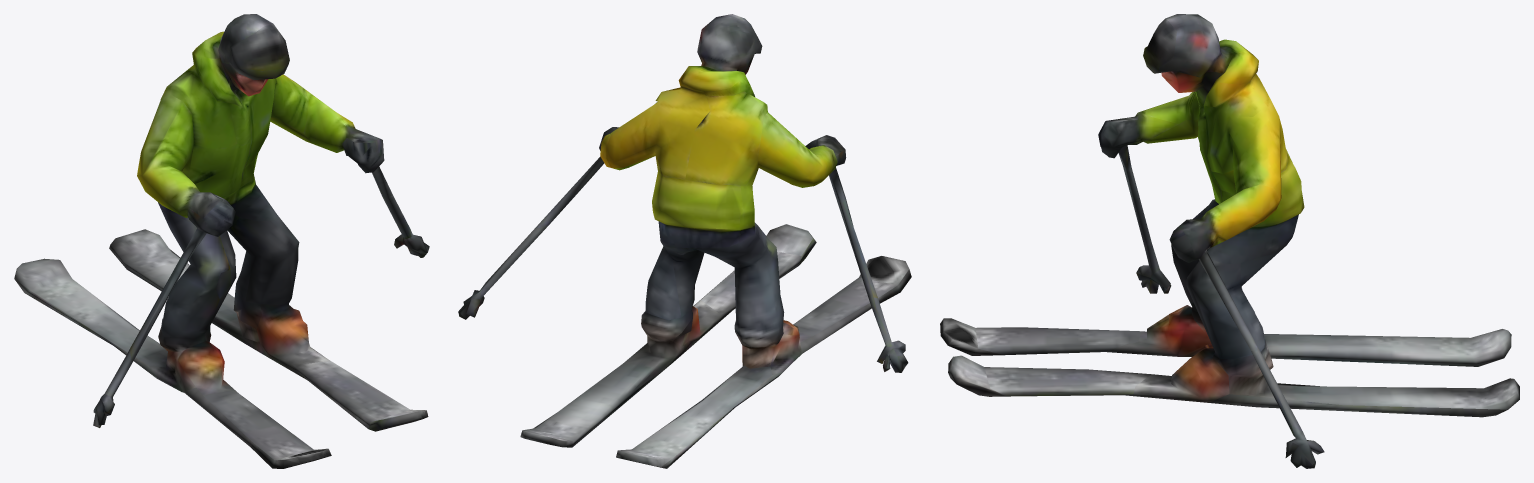
File: dio_skier_green.glb
3 views of the same model, side by side, from view 1: azimuth 30°, elevation 25°; view 2: azimuth 150°, elevation 25°; view 3: azimuth 270°, elevation 25° (orthographic). The views are drawn at different scales.
Parts seen in each view (by area): view 1: tripo_part_11; view 2: tripo_part_11; view 3: tripo_part_11.
Boxes of the visible parts, x1,y1,x2,y2 form: tripo_part_11: [14, 14, 429, 468]; tripo_part_11: [458, 14, 911, 468]; tripo_part_11: [940, 14, 1519, 468].
Bounding box in the file's own units: 0.2029 × 0.174 × 0.2469.
Materials: 1 (1 with a texture image).
